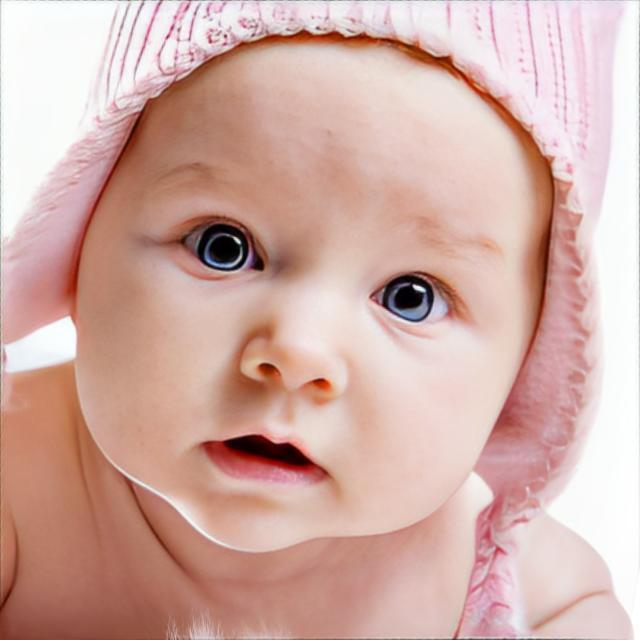surprise: (75, 39, 555, 554)
